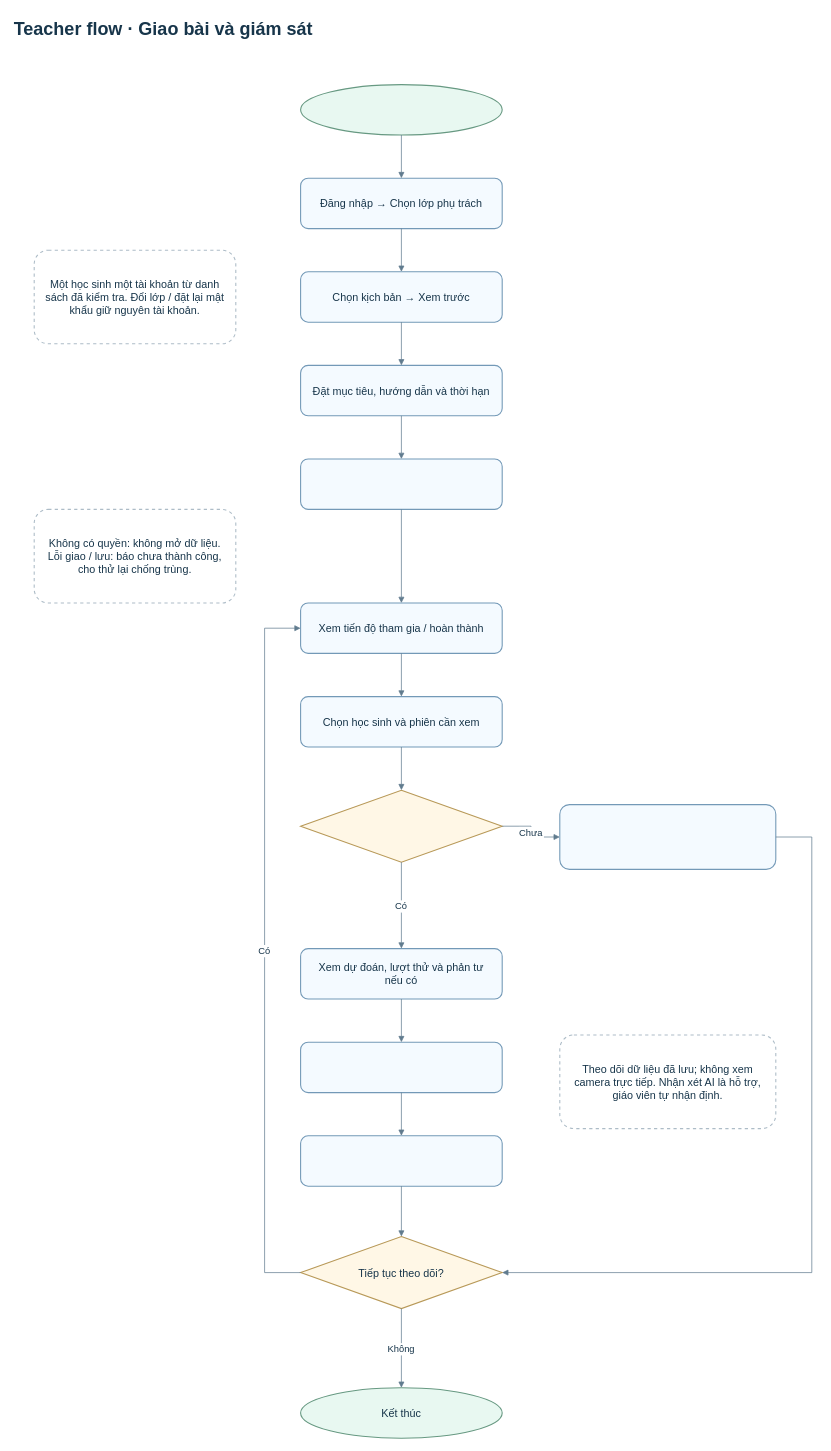
This 831x1451 diagram has some shape labels left out. Each missing label, with the centre of its shape:
"Bắt đầu" belongs at (401,109).
"Chưa bắt đầu: chưa kết luận về năng lực" belongs at (667,837).
"Có dữ liệu bài làm?" belongs at (401,825).
"Lưu nhận xét riêng của giáo viên" belongs at (401,1160).
"Xác nhận giao bài → Lưu danh sách nhận" belongs at (401,484).
"Đối chiếu bằng chứng → Viết nhận xét" belongs at (401,1067).
